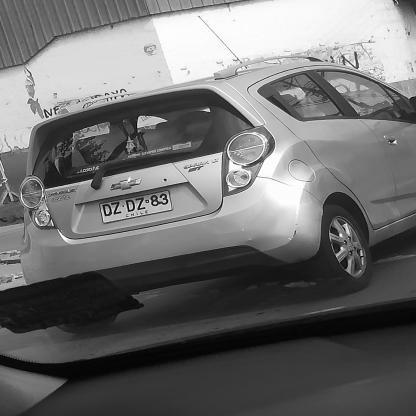Patente: (95, 188, 176, 226)
